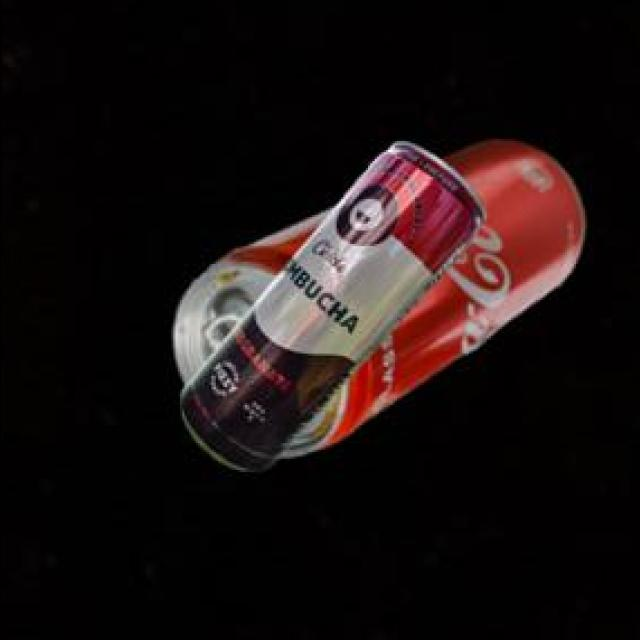logam: (176, 138, 587, 452), (182, 140, 489, 467)
